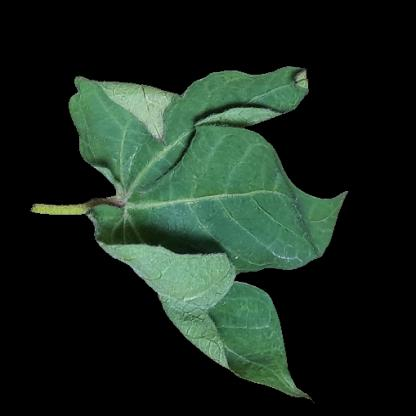curl_stage2: (132, 230, 245, 291), (98, 82, 178, 150), (186, 299, 274, 347)
